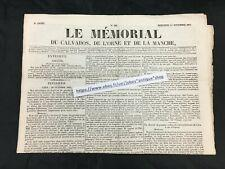paper: (18, 14, 217, 154)
